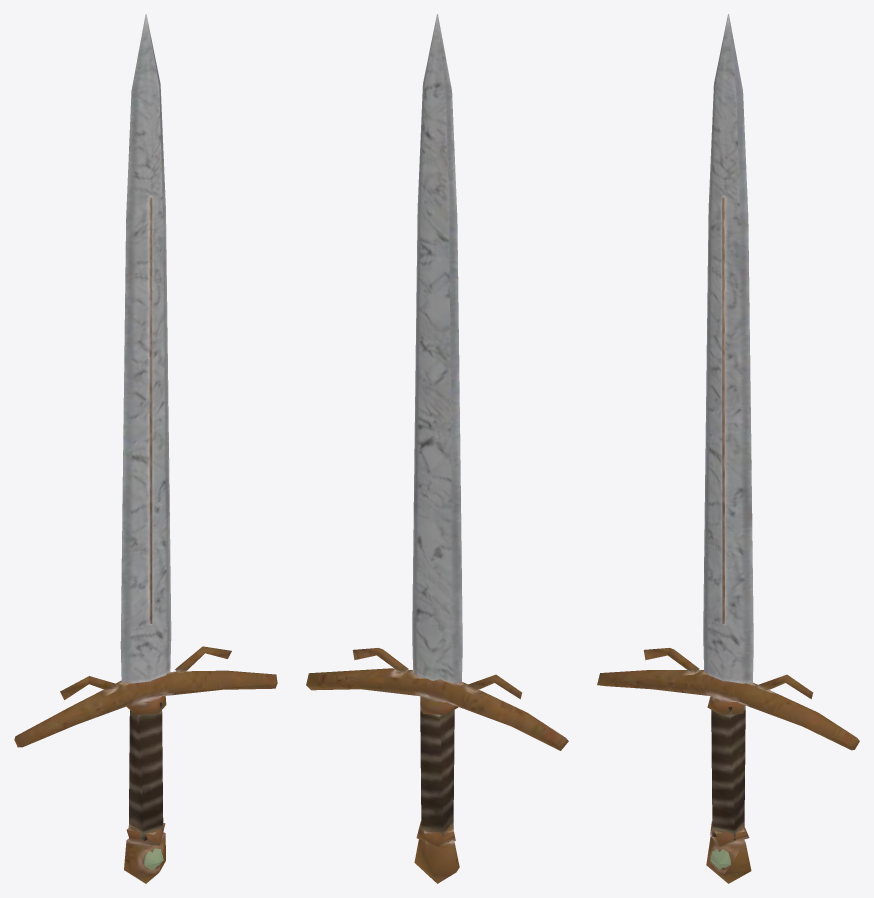
File: eq_sword_5_lod2.glb
The picture shows the model from 3 angles, left to right: view 1: azimuth 30°, elevation 25°; view 2: azimuth 150°, elevation 25°; view 3: azimuth 330°, elevation 25°; orthographic projection.
Visible parts, largest first — view 1: eq_sword_5_lod2; view 2: eq_sword_5_lod2; view 3: eq_sword_5_lod2.
Part boxes in pixels (x1=…): eq_sword_5_lod2: x1=14, y1=14, x2=277, y2=883; eq_sword_5_lod2: x1=306, y1=14, x2=568, y2=883; eq_sword_5_lod2: x1=597, y1=14, x2=859, y2=883.
Size of the model in its own units: 0.4476 by 1.44 by 0.0652.
1 material, 1 textured.
